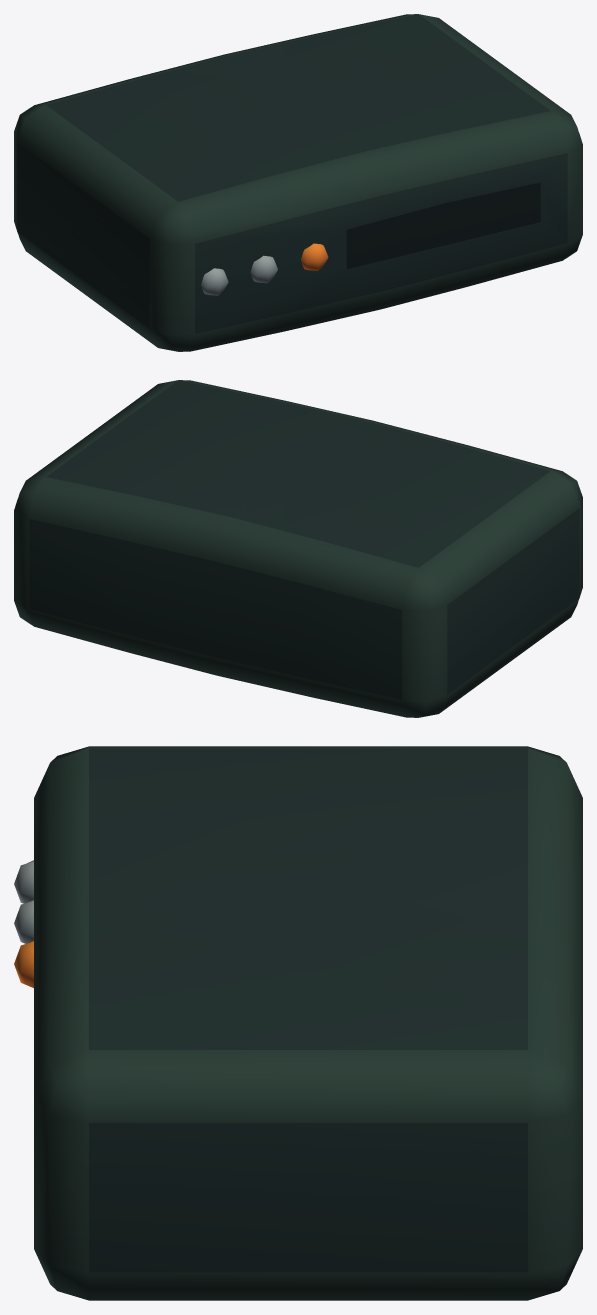
Rendered from vcr_LOD_setup.fbx.
The picture shows the model from 3 angles, top to bottom: view 1: azimuth 30°, elevation 25°; view 2: azimuth 150°, elevation 25°; view 3: azimuth 270°, elevation 25°; orthographic projection. The views are drawn at different scales.
Visible parts, largest first — view 1: vcr_LOD0; view 2: vcr_LOD0; view 3: vcr_LOD0.
Boxes of the visible parts, left/top/right/bottom form: vcr_LOD0: left=14, top=14, right=582, bottom=351; vcr_LOD0: left=14, top=380, right=582, bottom=717; vcr_LOD0: left=14, top=746, right=582, bottom=1300.
Size of what is drawn, in the model's own units: 75 by 26.64 by 51.82.
